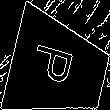P_E: (32, 44, 84, 93)
